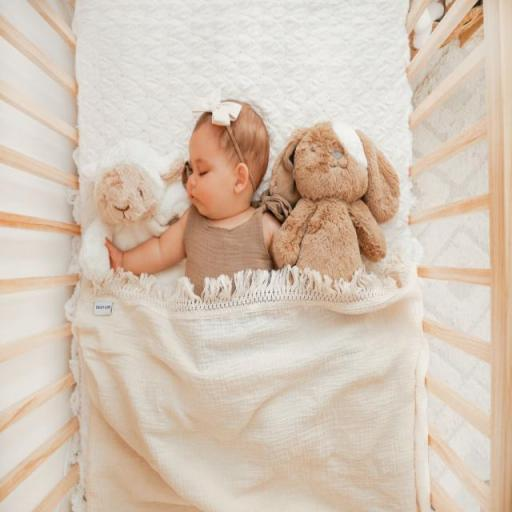baby: (105, 97, 287, 278)
crib: (0, 0, 512, 512)
